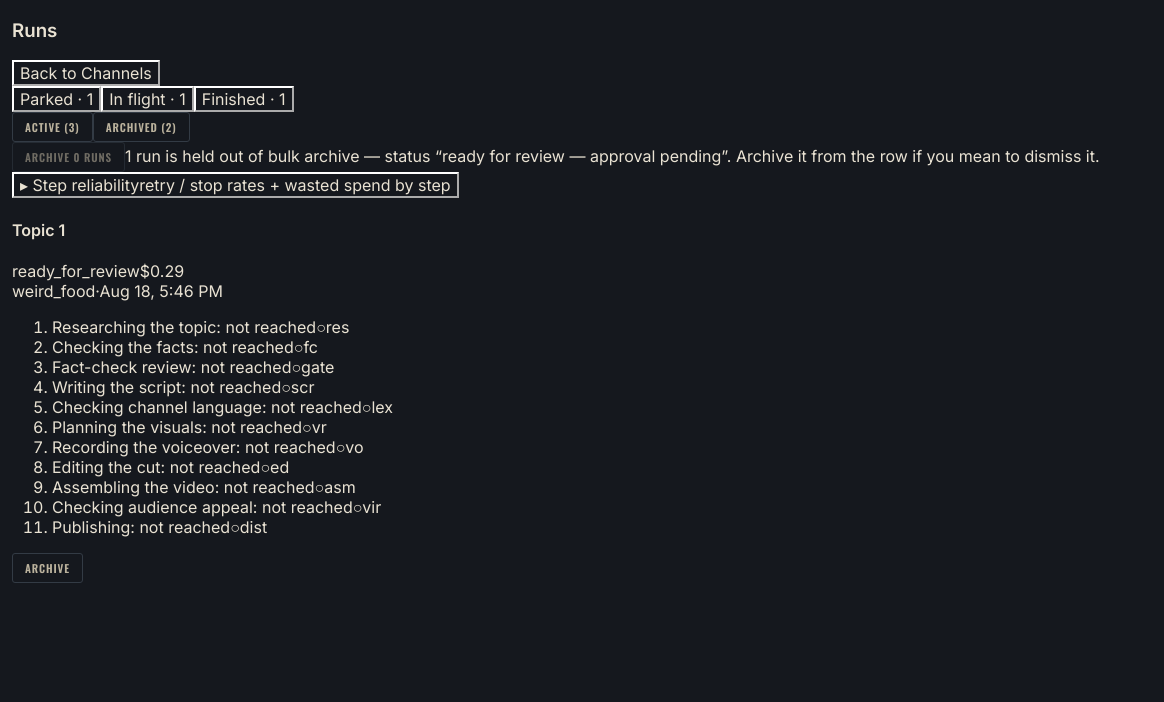
Test: RunsHub corrected lifecycle › keeps archive as an orthogonal filter and derives counts and default tab from archived rows
The image size is (1164, 702).
Expected: the tab named "In flight 1" is shown, x1=101 y1=86 x2=194 y2=112
Expected: the tab named "Finished 1" is shown, x1=194 y1=86 x2=294 y2=112
Click the button "Archived (2)".
click(141, 127)  # box x1=93 y1=112 x2=190 y2=142
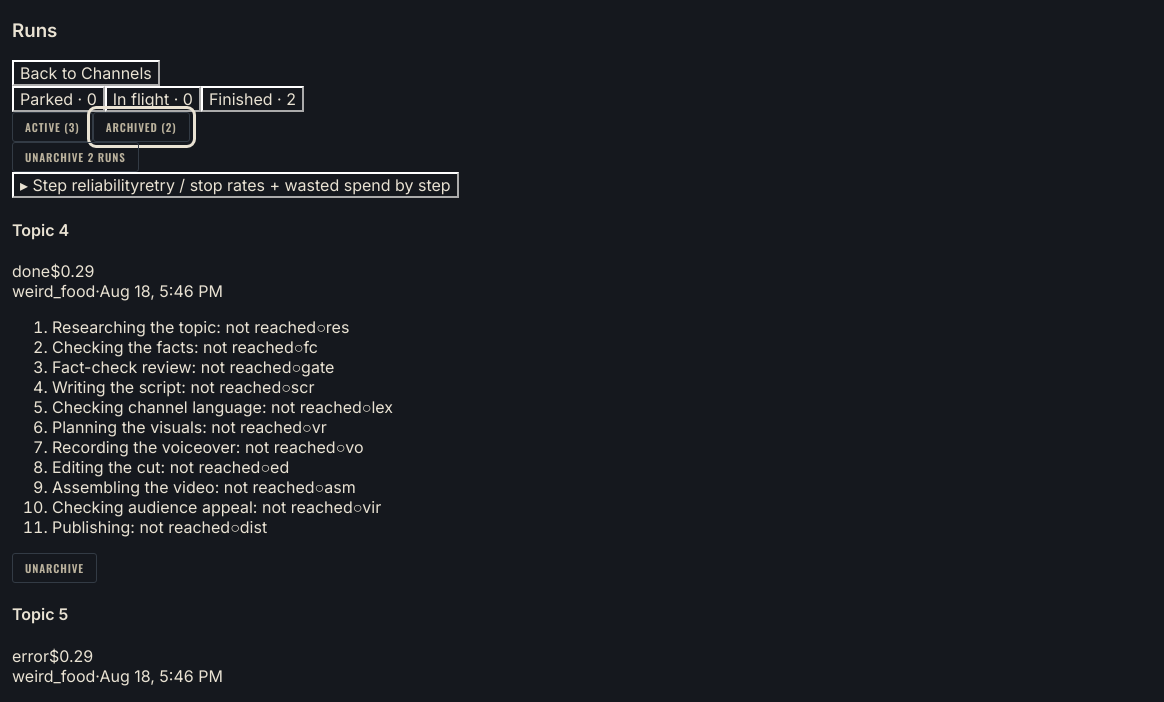
Expected: the tab named "Parked 0" is shown, x1=12 y1=86 x2=105 y2=112
Result: the heading "Topic 4" is shown at x1=12 y1=220 x2=69 y2=240
Result: the heading "Topic 5" is shown at x1=12 y1=604 x2=68 y2=624
